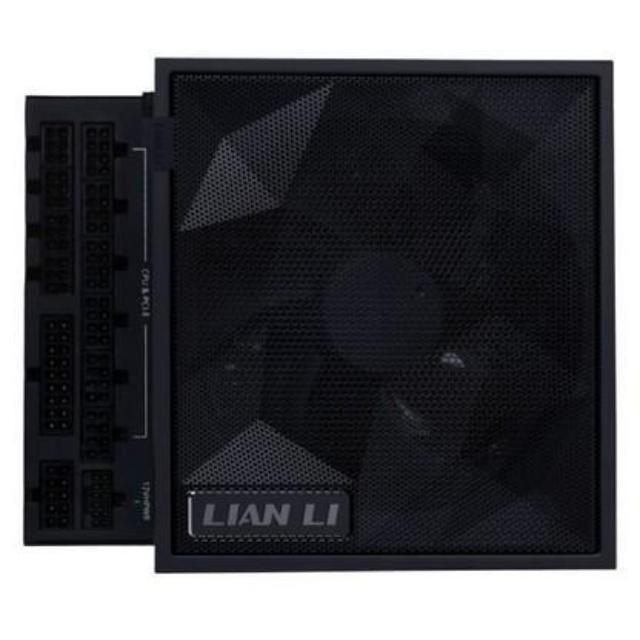PSU: (3, 30, 626, 601)
